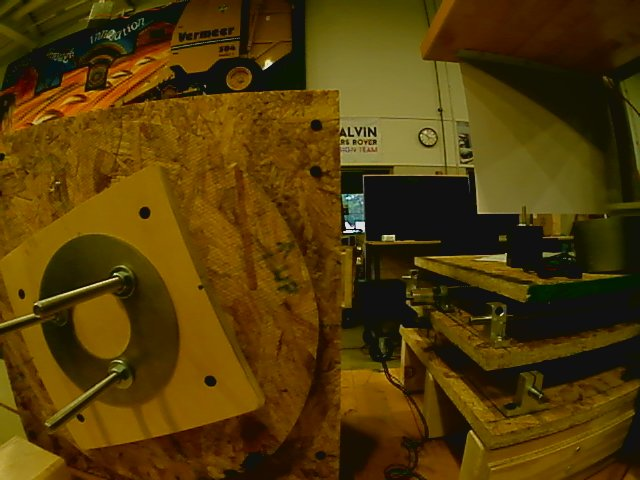bolt: (105, 264, 136, 301), (105, 358, 134, 392), (46, 299, 70, 328)
